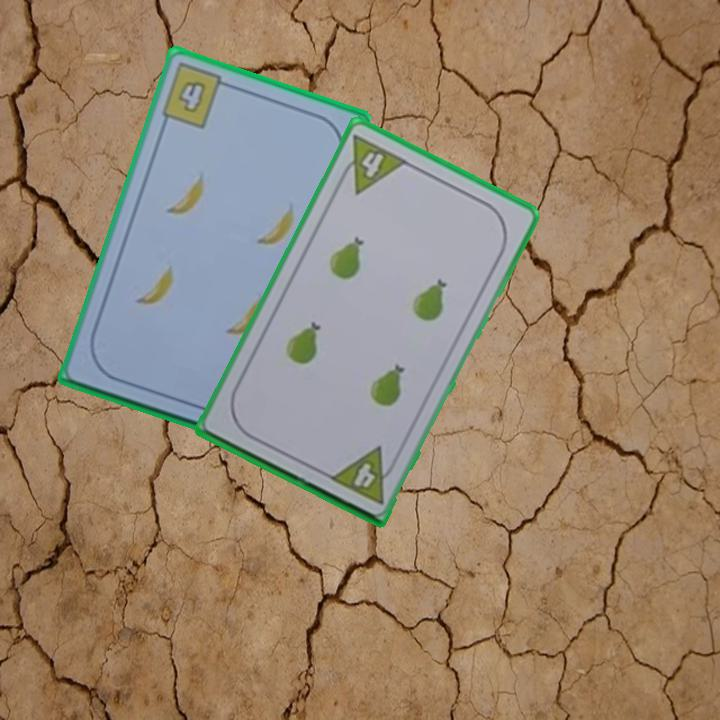4b: (157, 59, 234, 132)
4p: (333, 131, 411, 197), (325, 443, 401, 507)
